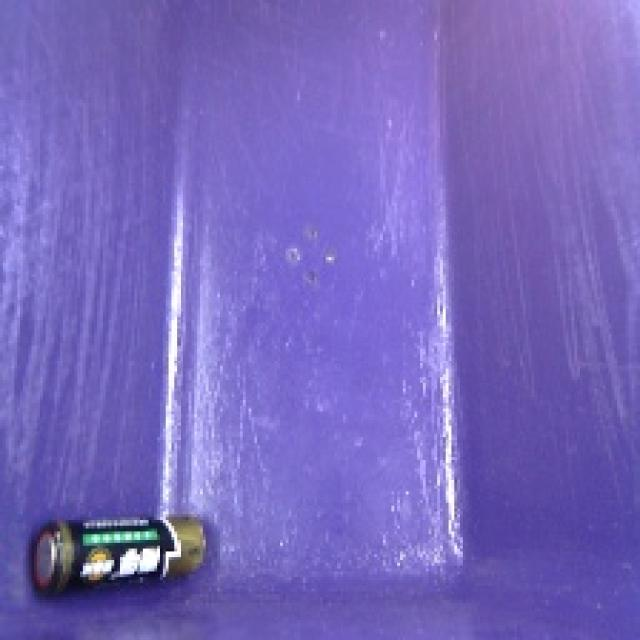battery: (19, 508, 228, 605)
